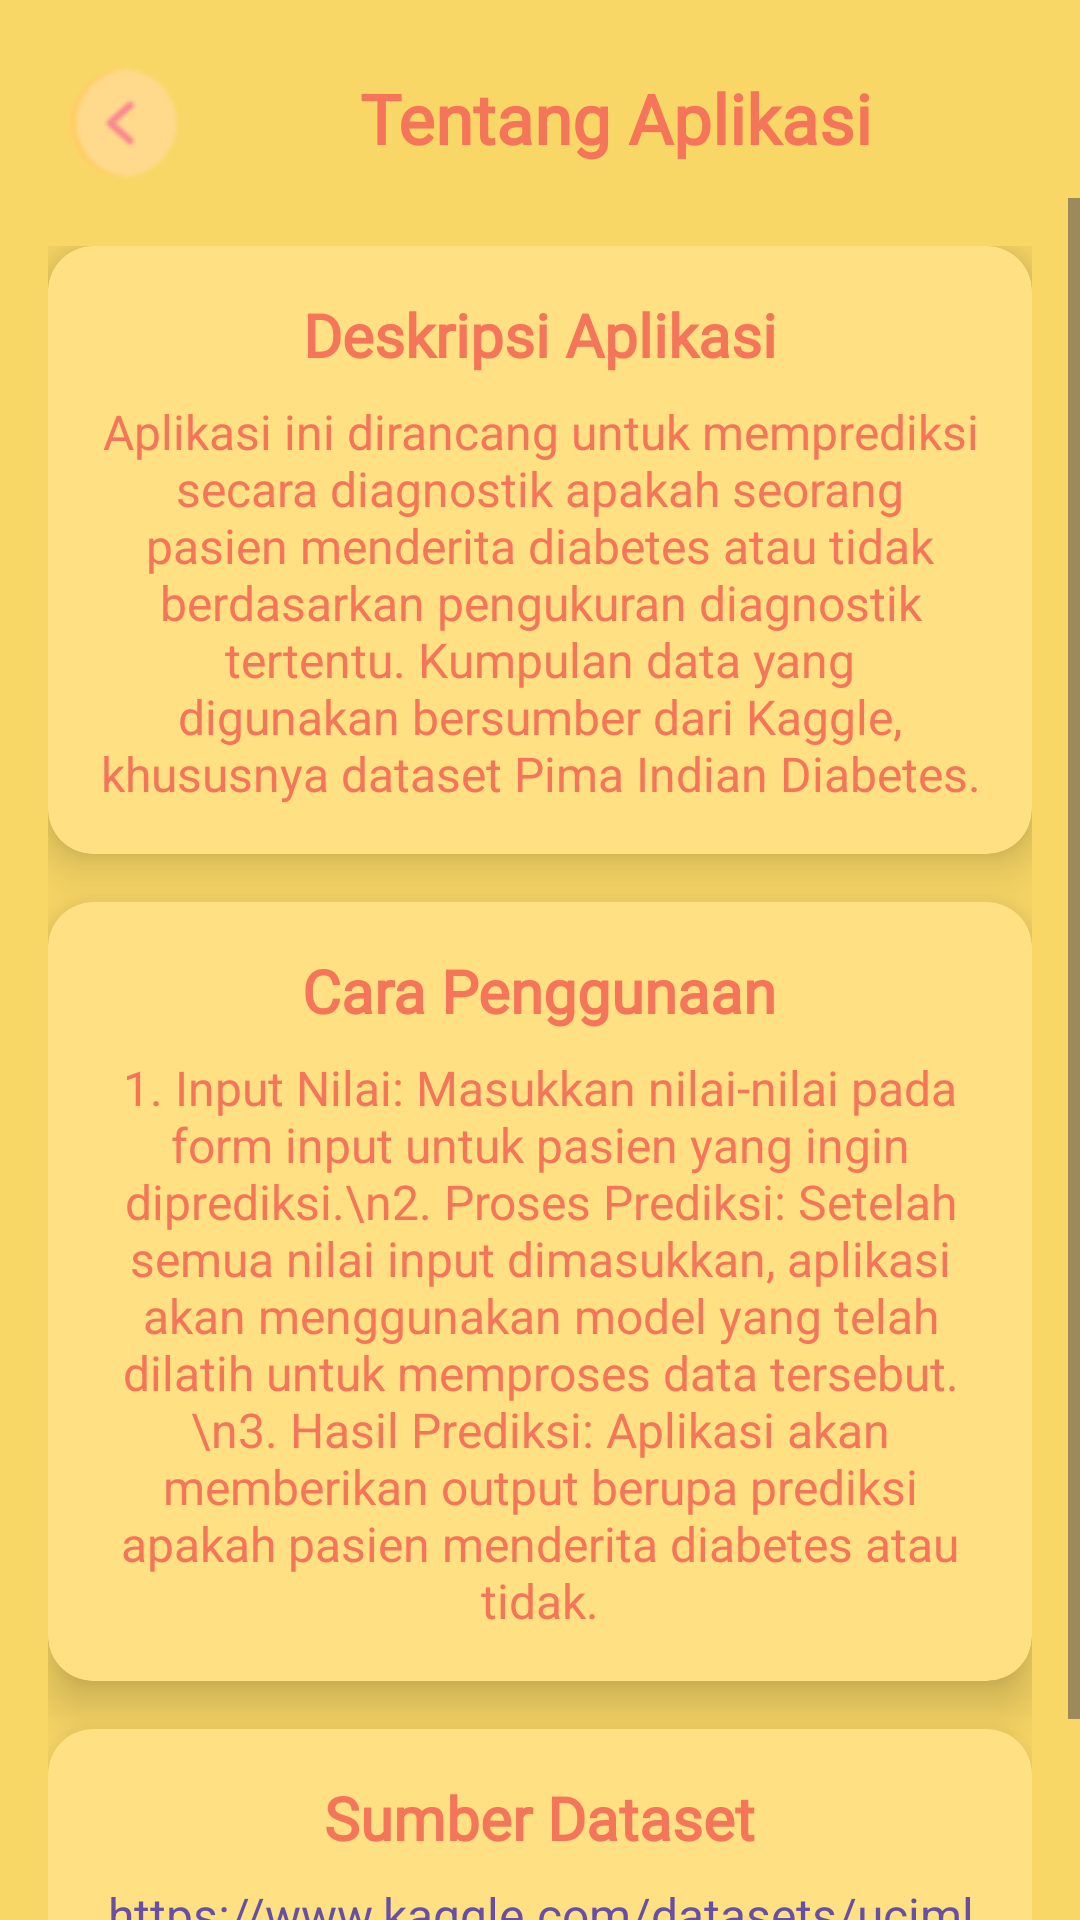

Icon bounding boxes for this 1080px x 1920px phone screenshot, format region(x1, y1, x2, y2):
Back: region(78, 70, 176, 176)
